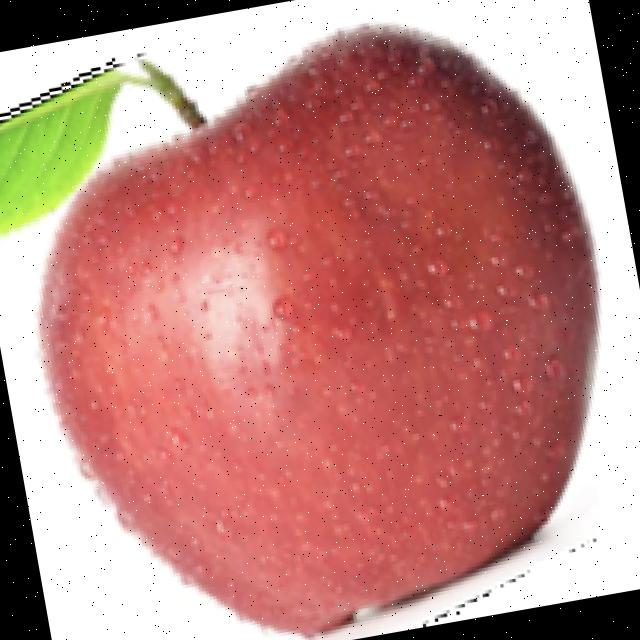apple: (0, 17, 603, 640)
